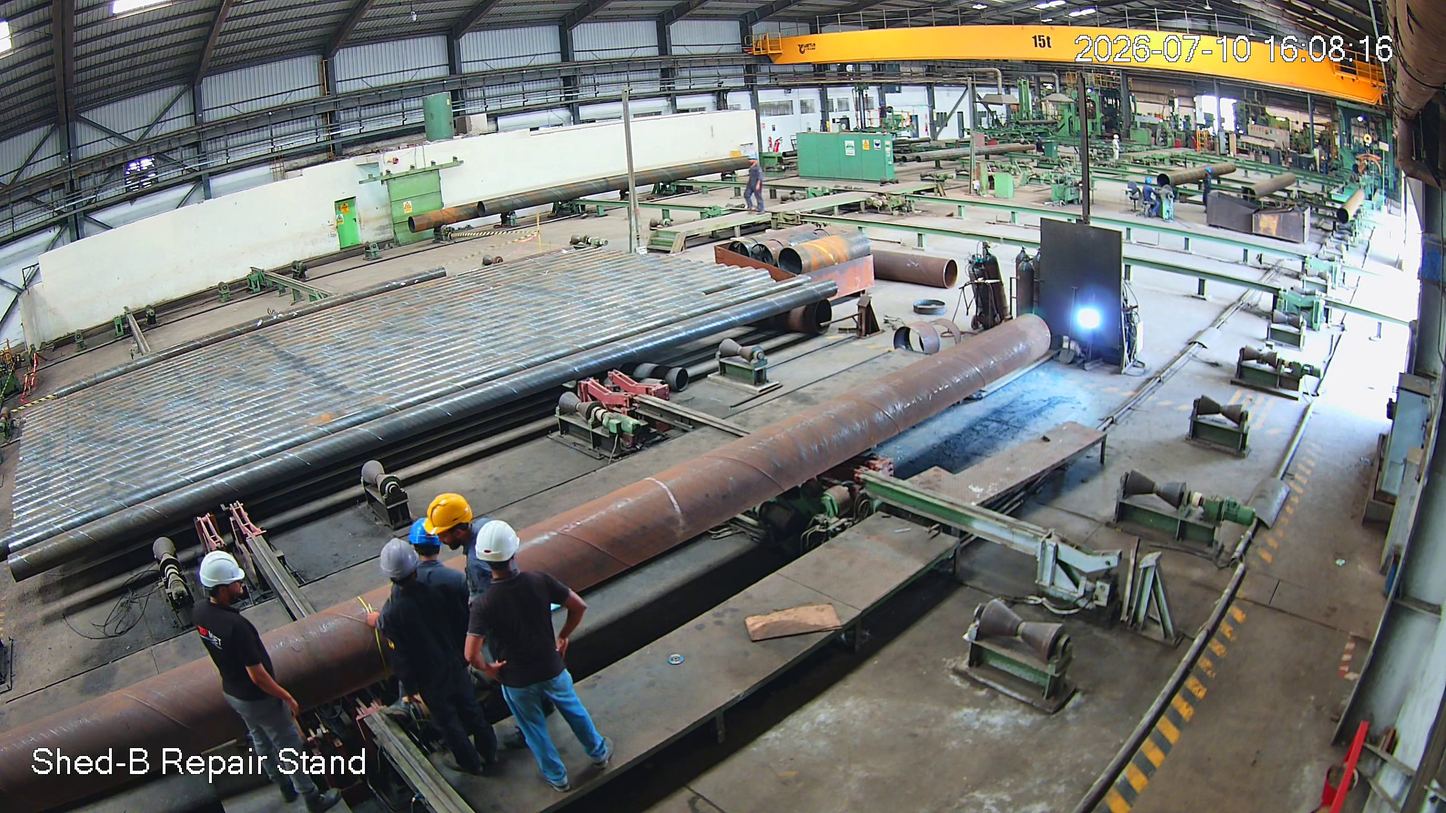Helmet: (192, 540, 262, 635), (469, 521, 535, 593), (379, 523, 428, 611)
Person: (162, 550, 345, 813), (455, 534, 635, 787), (355, 532, 475, 795)
